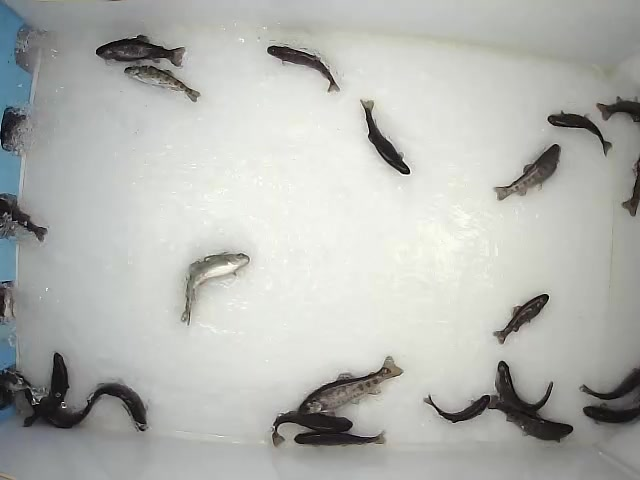fish: (295, 352, 404, 417), (179, 249, 249, 328), (357, 98, 413, 177), (493, 143, 563, 203), (491, 397, 574, 445), (266, 44, 342, 94), (494, 357, 555, 418), (22, 385, 101, 431), (24, 349, 70, 425), (93, 33, 187, 69), (545, 110, 614, 158), (85, 381, 151, 431), (120, 64, 201, 104), (491, 293, 551, 347), (268, 412, 352, 446), (578, 366, 640, 400), (424, 394, 490, 425), (293, 430, 388, 448), (581, 402, 640, 428)
